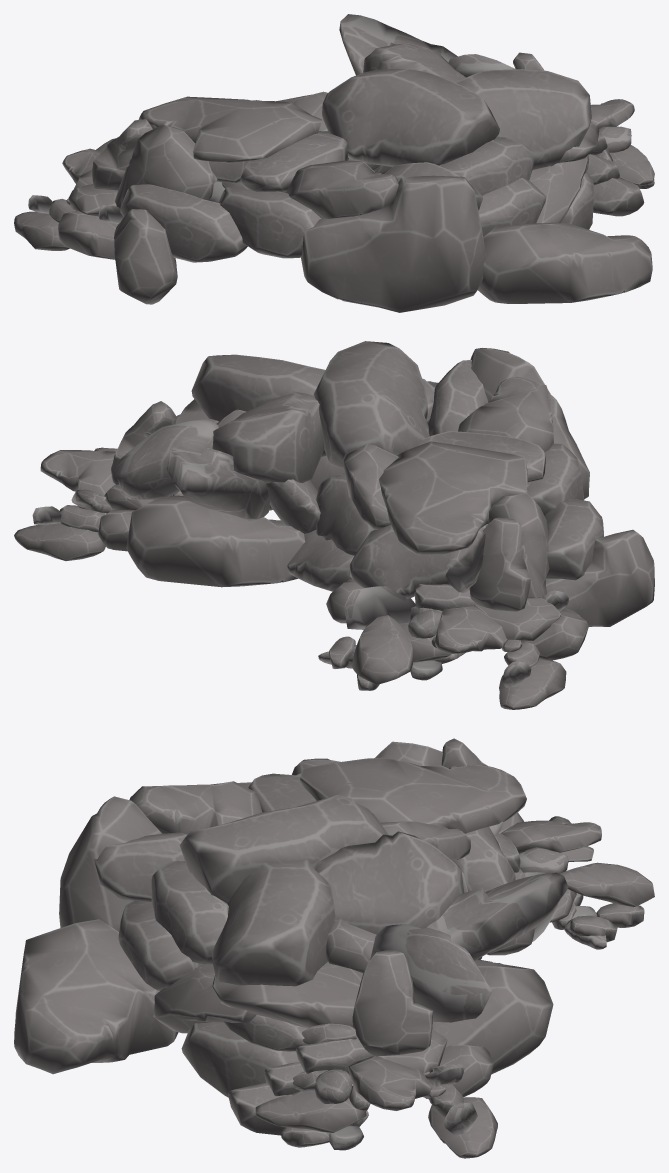
File: Cueva.fbx
3 views of the same model, one above another, from view 1: azimuth 30°, elevation 25°; view 2: azimuth 150°, elevation 25°; view 3: azimuth 270°, elevation 25° (orthographic). The views are drawn at different scales.
Visible parts, largest first — view 1: rockmodel26, RocksV2_3_LOW (2<, rockmodel14, RocksV2_3_LOW (2=, rockmodel24, RocksV2_3_LOW (2:, rockmodel22, RocksV2_3_LOW (29, rockmodel25, rockmodel21, Cueva, pasted__RocksV2_2_LOW (1- (+19 smaller); view 2: Cueva, rockmodel7, rockmodel24, RocksV2_3_LOW (2<, RocksV2_3_LOW (2>, rockmodel25, RocksV2_3_LOW (2=, rockmodel22, RocksV2_3_LOW (2/, rockmodel20, RocksV2_3_LOW (2:, pasted__rockmodel1 (+25 smaller); view 3: rockmodel14, Cueva, RocksV2_3_LOW (2=, rockmodel24, RocksV2_3_LOW (2<, RocksV2_3_LOW (2>, rockmodel7, rockmodel26, rockmodel5, rockmodel8, RocksV2_3_LOW (28, rockmodel22 (+28 smaller).
Part boxes in pixels (x1,y1,x2,y2): rockmodel26: (301, 175, 486, 312); RocksV2_3_LOW (2<: (322, 68, 499, 166); rockmodel14: (478, 222, 652, 303); RocksV2_3_LOW (2=: (456, 69, 591, 169); rockmodel24: (138, 96, 322, 163); RocksV2_3_LOW (2:: (120, 183, 247, 262); rockmodel22: (286, 160, 398, 219); RocksV2_3_LOW (29: (218, 187, 321, 258); rockmodel25: (114, 209, 177, 304); rockmodel21: (114, 124, 213, 208); Cueva: (28, 14, 515, 224); pasted__RocksV2_2_LOW (1-: (240, 131, 348, 192); Cueva: (116, 419, 568, 687); rockmodel7: (126, 495, 305, 587); rockmodel24: (379, 441, 527, 555); RocksV2_3_LOW (2<: (313, 341, 429, 468); RocksV2_3_LOW (2>: (212, 391, 324, 483); rockmodel25: (545, 529, 654, 626); RocksV2_3_LOW (2=: (191, 354, 326, 457); rockmodel22: (458, 376, 553, 452); RocksV2_3_LOW (2/: (349, 525, 453, 598); rockmodel20: (469, 517, 531, 611); RocksV2_3_LOW (2:: (544, 499, 603, 580); pasted__rockmodel1: (352, 615, 412, 684); rockmodel14: (14, 919, 178, 1074); Cueva: (329, 816, 583, 1150); RocksV2_3_LOW (2=: (211, 859, 335, 986); rockmodel24: (300, 757, 526, 833); RocksV2_3_LOW (2<: (179, 795, 388, 903); RocksV2_3_LOW (2>: (314, 831, 464, 934); rockmodel7: (432, 959, 553, 1074); rockmodel26: (59, 796, 162, 931); rockmodel5: (352, 950, 433, 1056); rockmodel8: (212, 961, 363, 1028); RocksV2_3_LOW (28: (151, 861, 228, 964); rockmodel22: (129, 781, 262, 833).
Bounding box in the file's own units: 111135 × 34708 × 94679.
